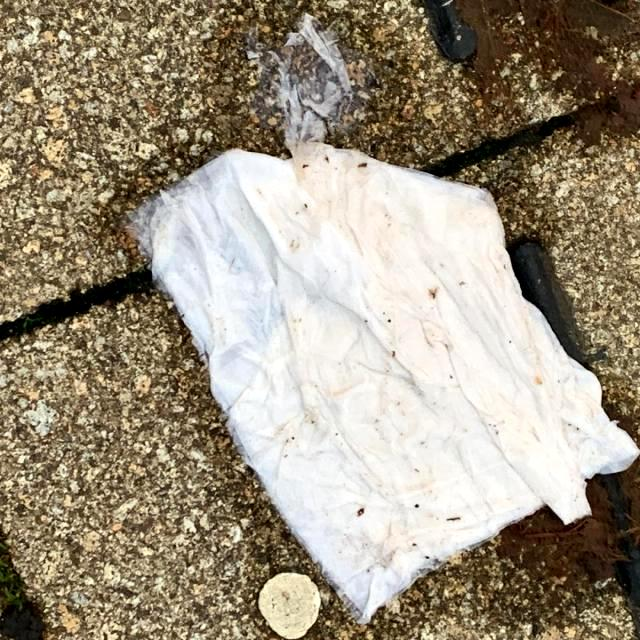Paper: (122, 9, 640, 628)
